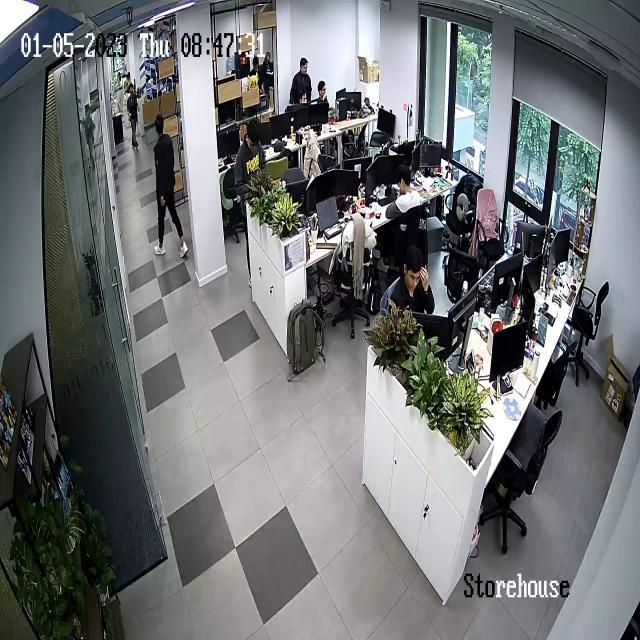person: (153, 113, 189, 259), (380, 244, 436, 316), (236, 118, 267, 192), (387, 163, 426, 216), (289, 57, 313, 109), (309, 80, 330, 124)
